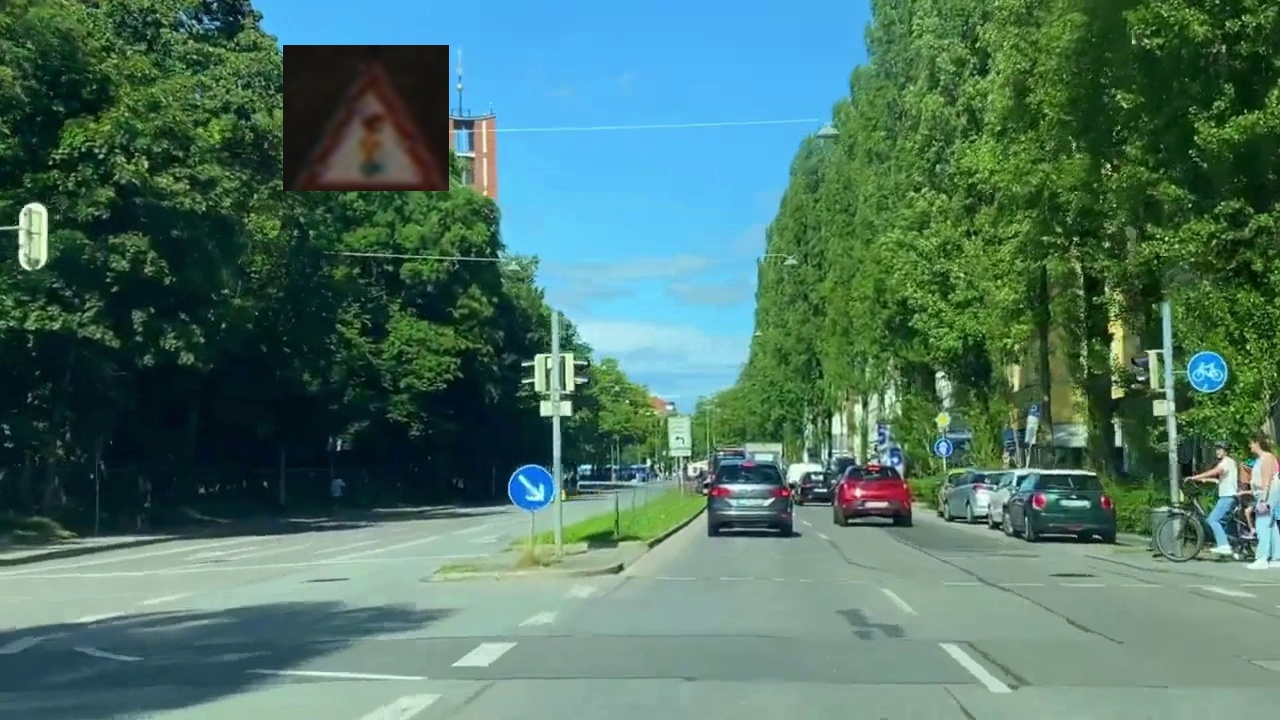Signals: (283, 45, 449, 191)
